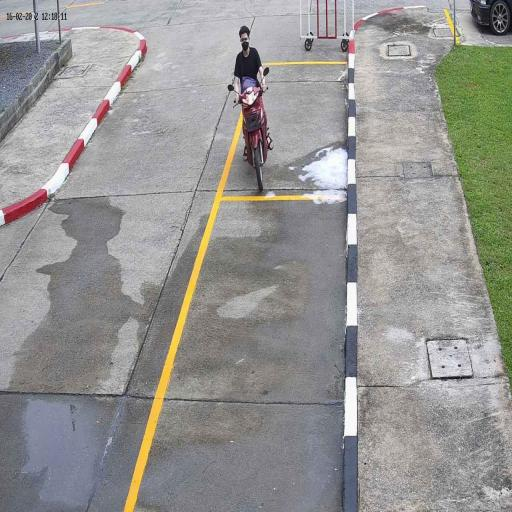motorcycle: (235, 84, 271, 193)
